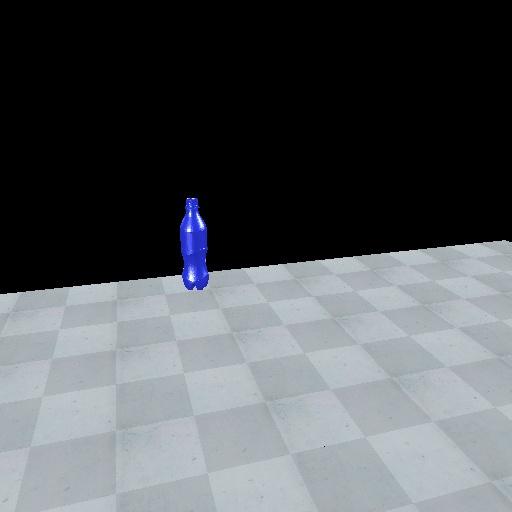bottle: (177, 194, 211, 292)
